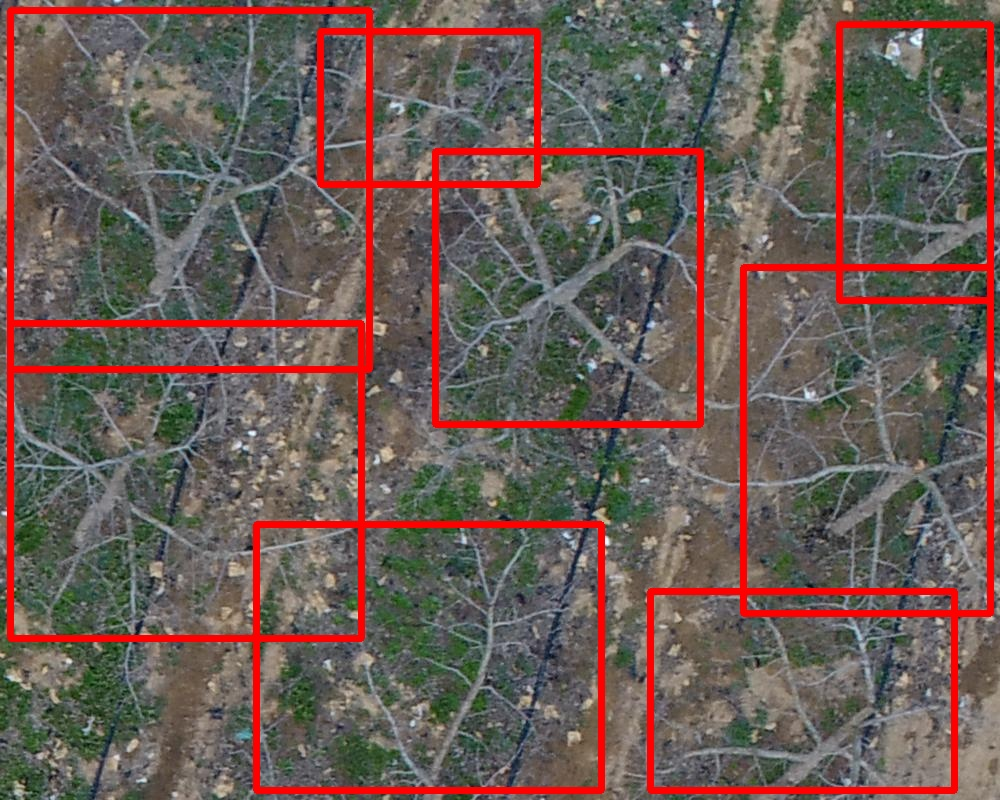apple: (10, 10, 369, 369), (10, 323, 361, 638), (256, 524, 601, 790), (743, 267, 990, 613), (435, 151, 700, 424), (650, 591, 954, 790), (839, 24, 990, 300), (320, 31, 537, 184)
